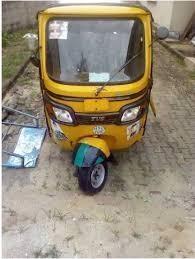keke: (31, 5, 155, 196)
